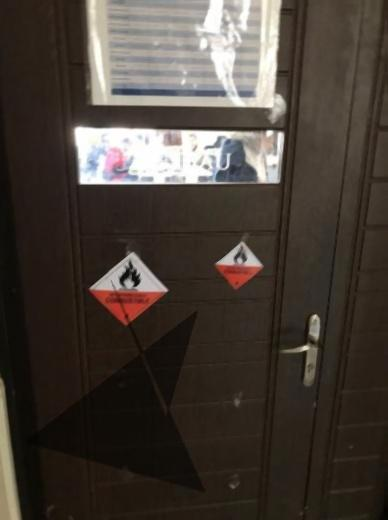spontaneously-combustible: (92, 251, 171, 326), (217, 239, 265, 289)
